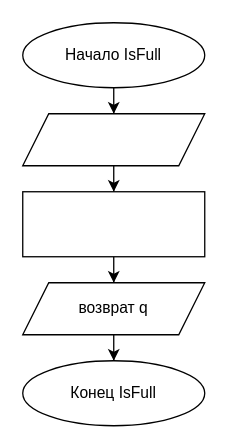
This 227x448 diagram has some shape labels left out. Each missing label, with the box of its shape:
IsFull := q.rear = MaxSize: (21, 190, 205, 257)
инициализация q: (21, 112, 205, 166)
